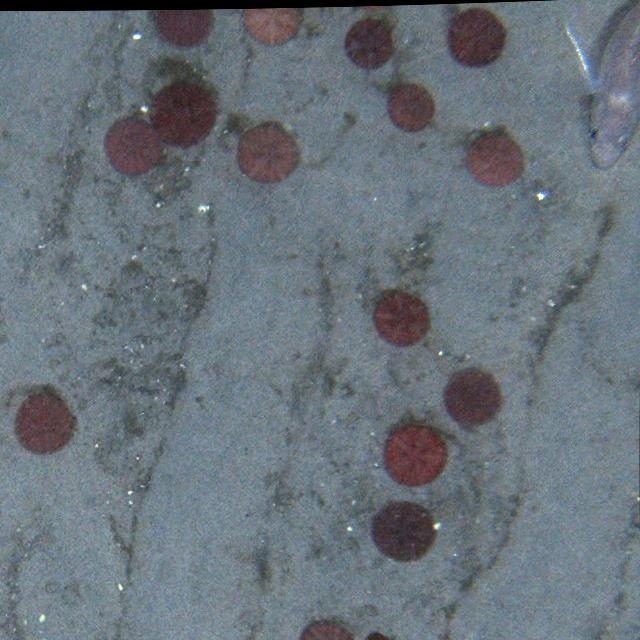roundfish: (560, 0, 640, 174)
